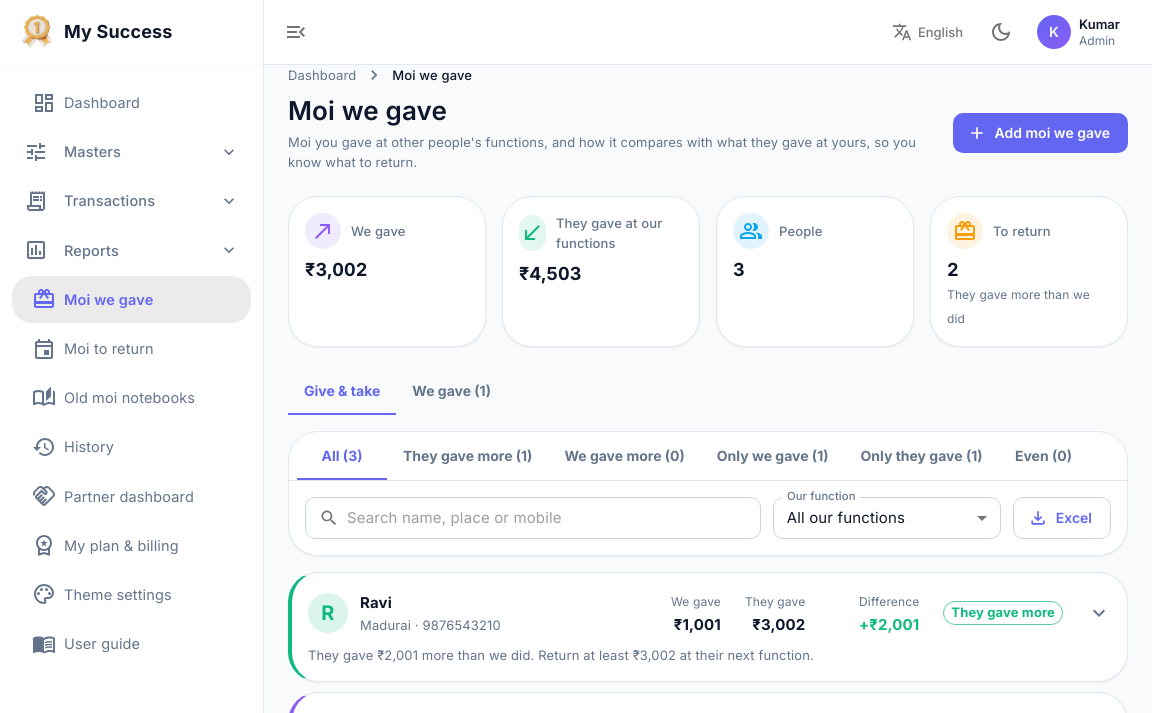
Moi we gave › filters by status and asks the API for one function
Later steps or results of the test are not shown.
Check: the text "Return at least ₹3,002" is shown, box [308,647,814,663]
Click the tab "Only we gave (1)" at (773, 456), box [701,432,844,480]
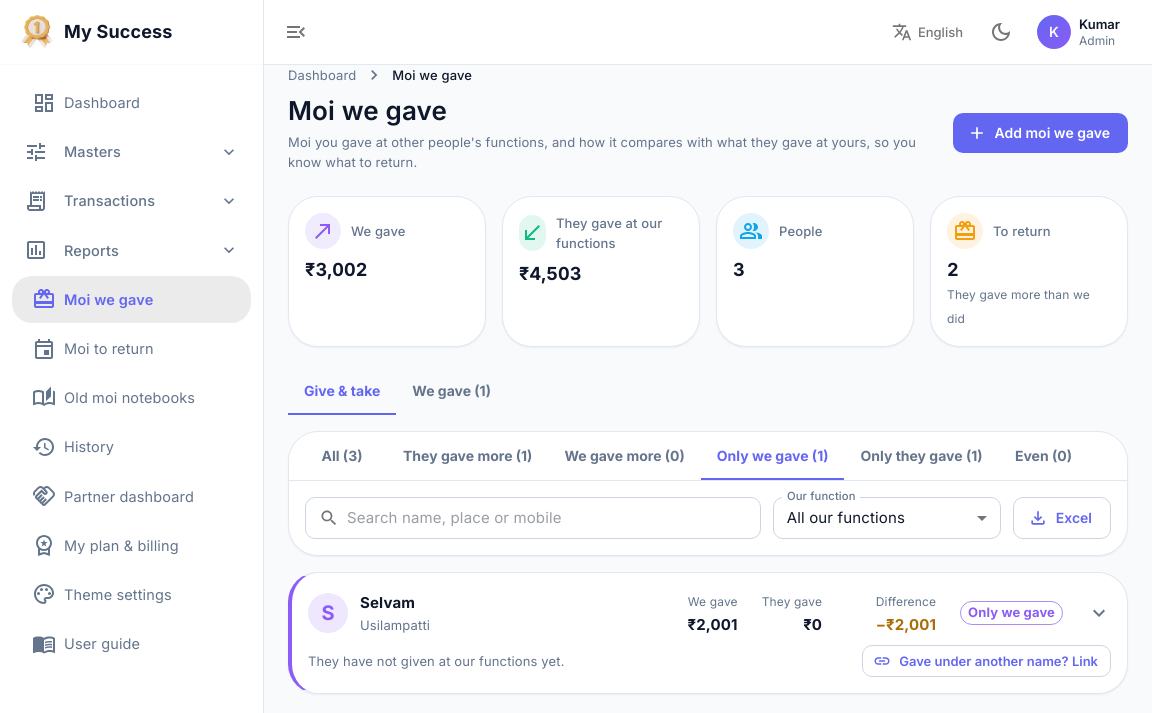
Check: the text "Selvam" is shown, box [360,592,415,612]
Check: the button "Ravi" is gone
